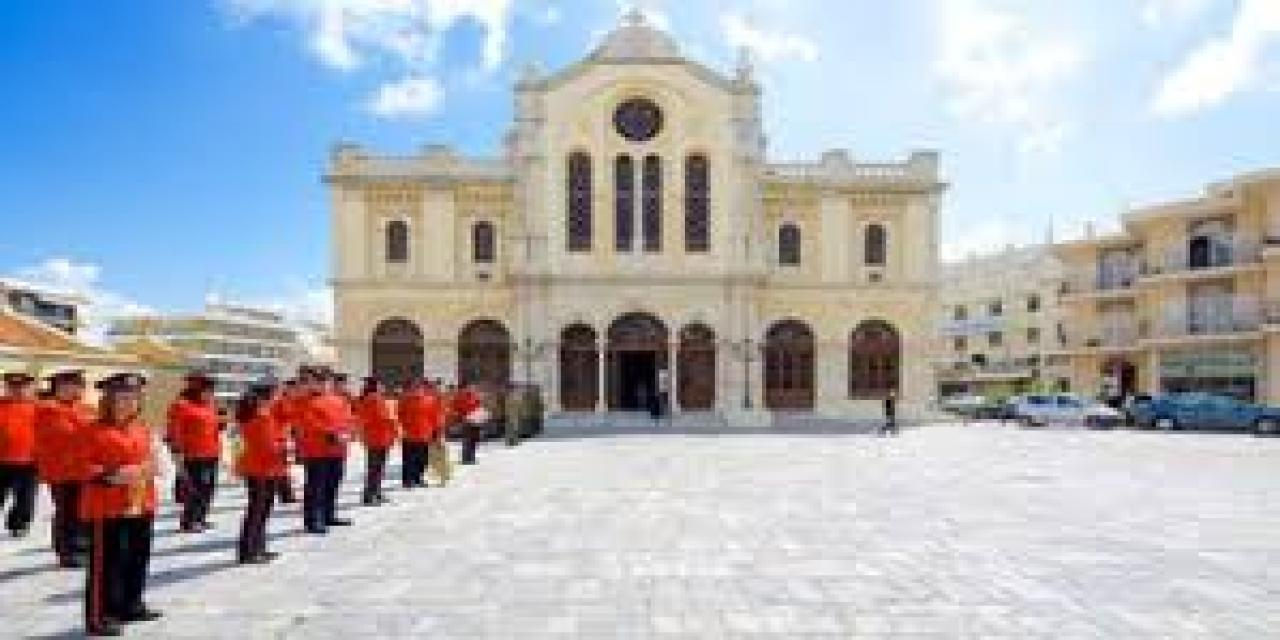Agios Minas: (315, 4, 960, 424)
